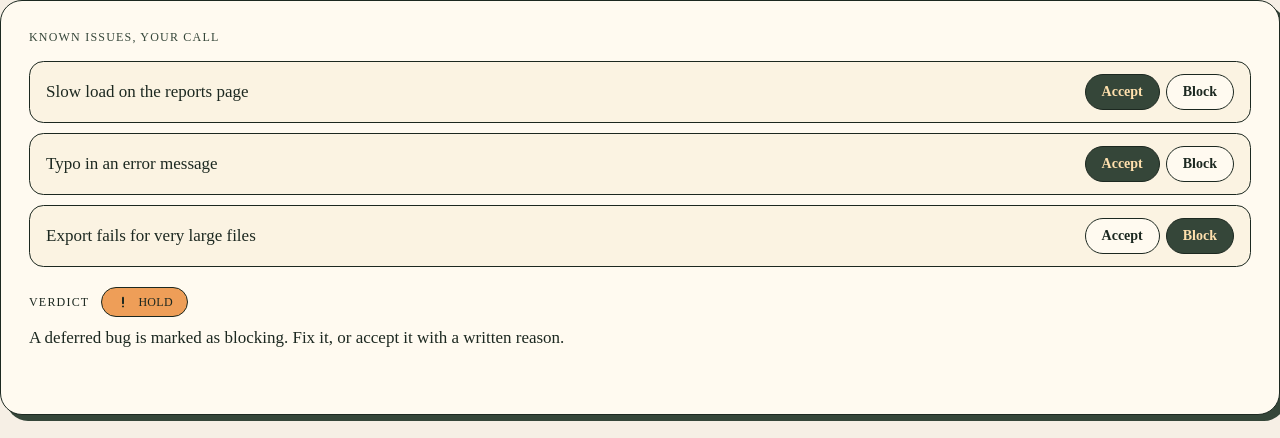
Test case: KnownIssuesDemo › opens on Hold with one blocking issue, and flips to Go when accepted
Expected: the text "Hold" is shown, x1=101 y1=287 x2=188 y2=317
Click the button "Accept" in the row of "Export fails for very large files" at {"x": 1122, "y": 236}, box x1=1085 y1=218 x2=1160 y2=254
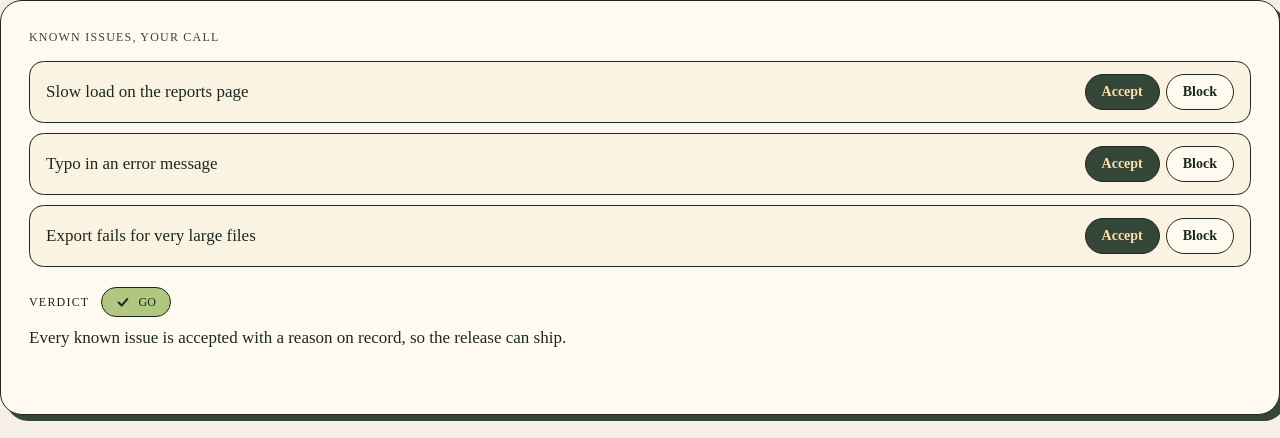
Expected: the text "Go" is shown, x1=101 y1=287 x2=171 y2=317
